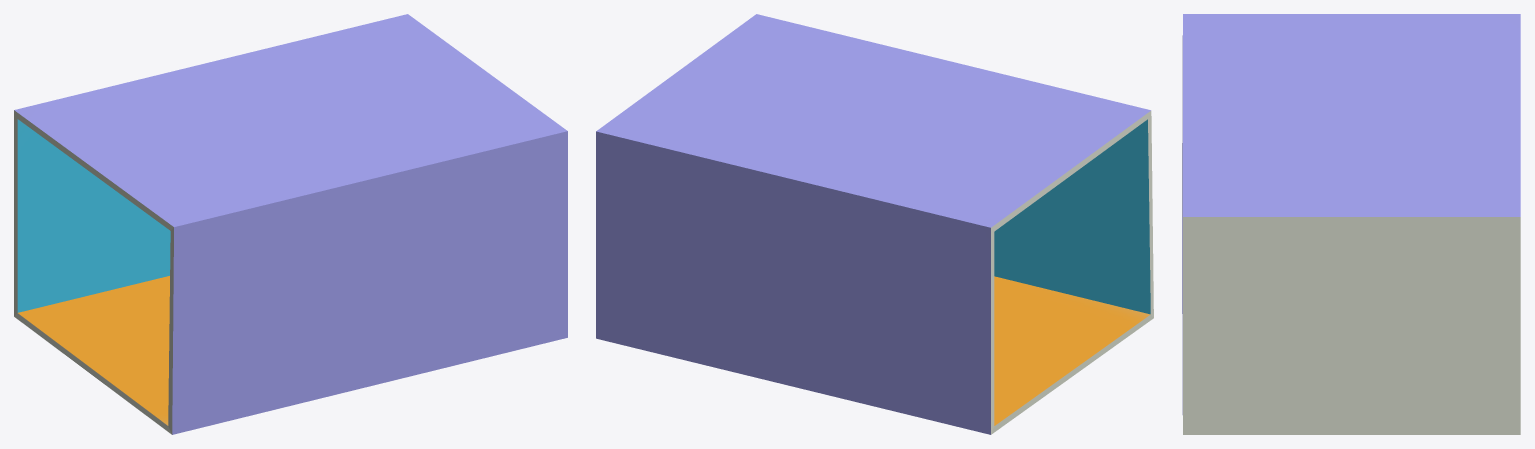
The picture shows the model from 3 angles, left to right: view 1: azimuth 30°, elevation 25°; view 2: azimuth 150°, elevation 25°; view 3: azimuth 270°, elevation 25°; orthographic projection. The views are drawn at different scales.
Parts seen in each view (by area): view 1: Cube; view 2: Cube; view 3: Cube.
Part boxes in pixels (x1,y1,x2,y2): Cube: (14, 14, 567, 434); Cube: (596, 14, 1153, 434); Cube: (1182, 14, 1520, 434).
Bounding box in the file's own units: 43.39 × 21.65 × 30.4.
Materials: 1 (1 with a texture image).
